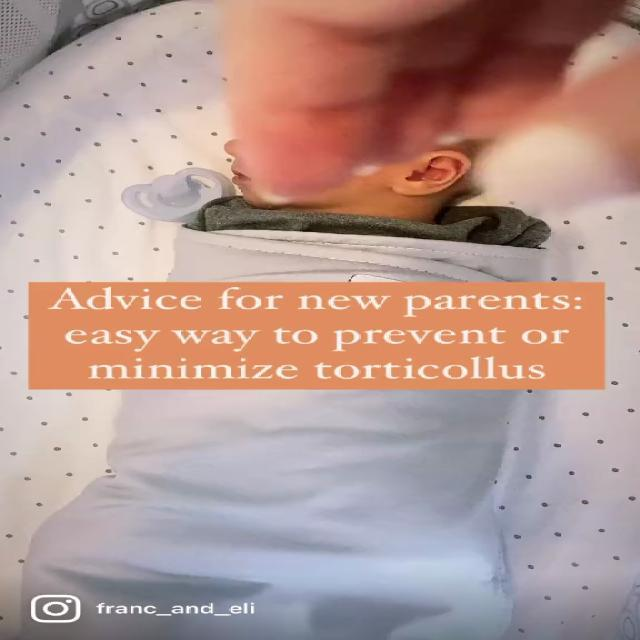baby: (15, 84, 554, 640)
